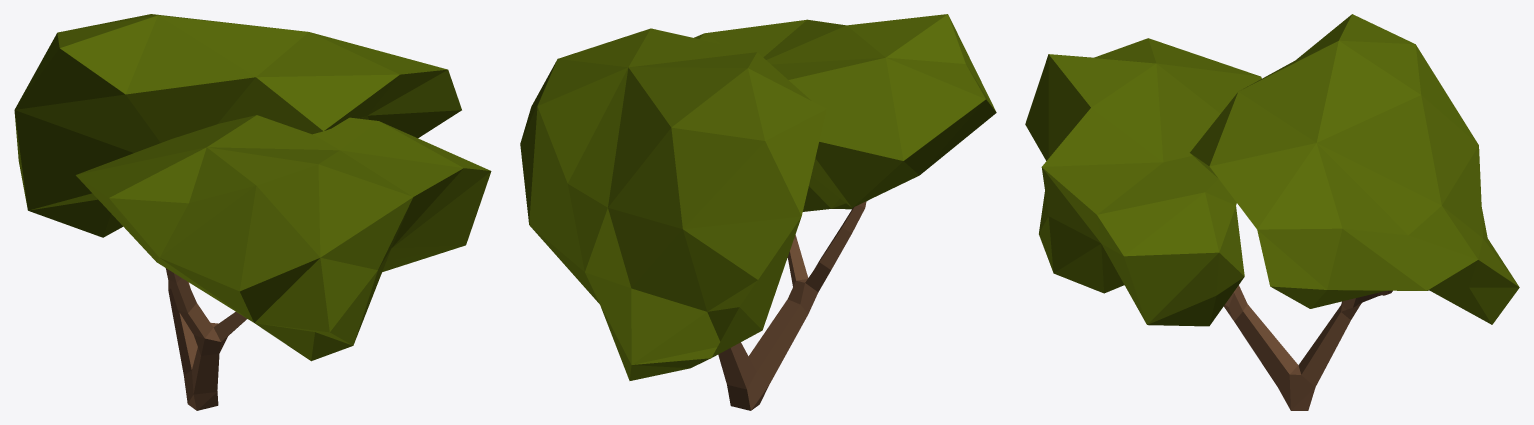
The model's file is mesh_bush_02.fbx.
3 renders of one model, left to right at view 1: azimuth 30°, elevation 25°; view 2: azimuth 150°, elevation 25°; view 3: azimuth 270°, elevation 25°, orthographic. The views are drawn at different scales.
Parts seen in each view (by area): view 1: mesh_bush_02; view 2: mesh_bush_02; view 3: mesh_bush_02.
Boxes of the visible parts, bbox=[...] form: mesh_bush_02: bbox=[14, 14, 491, 410]; mesh_bush_02: bbox=[520, 14, 996, 410]; mesh_bush_02: bbox=[1025, 14, 1519, 410].
Size of the model in its own units: 112 by 96.82 by 122.
